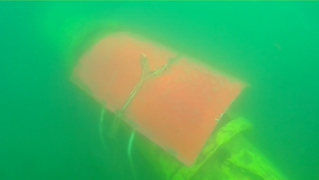leak: (72, 31, 243, 167)
pipe: (109, 112, 288, 180), (31, 1, 123, 79)
